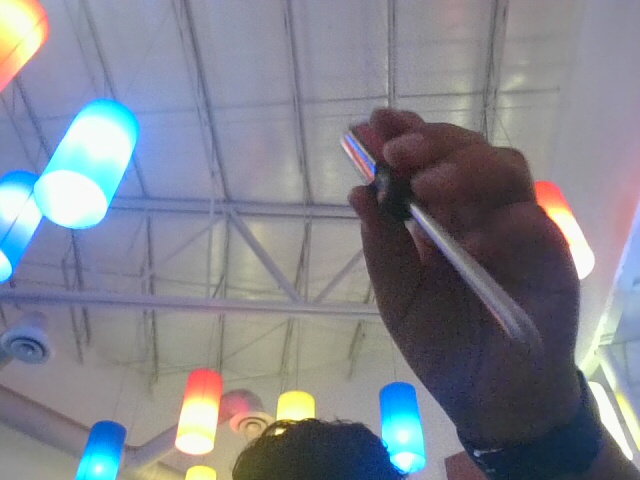destornillador: (335, 120, 546, 351)
